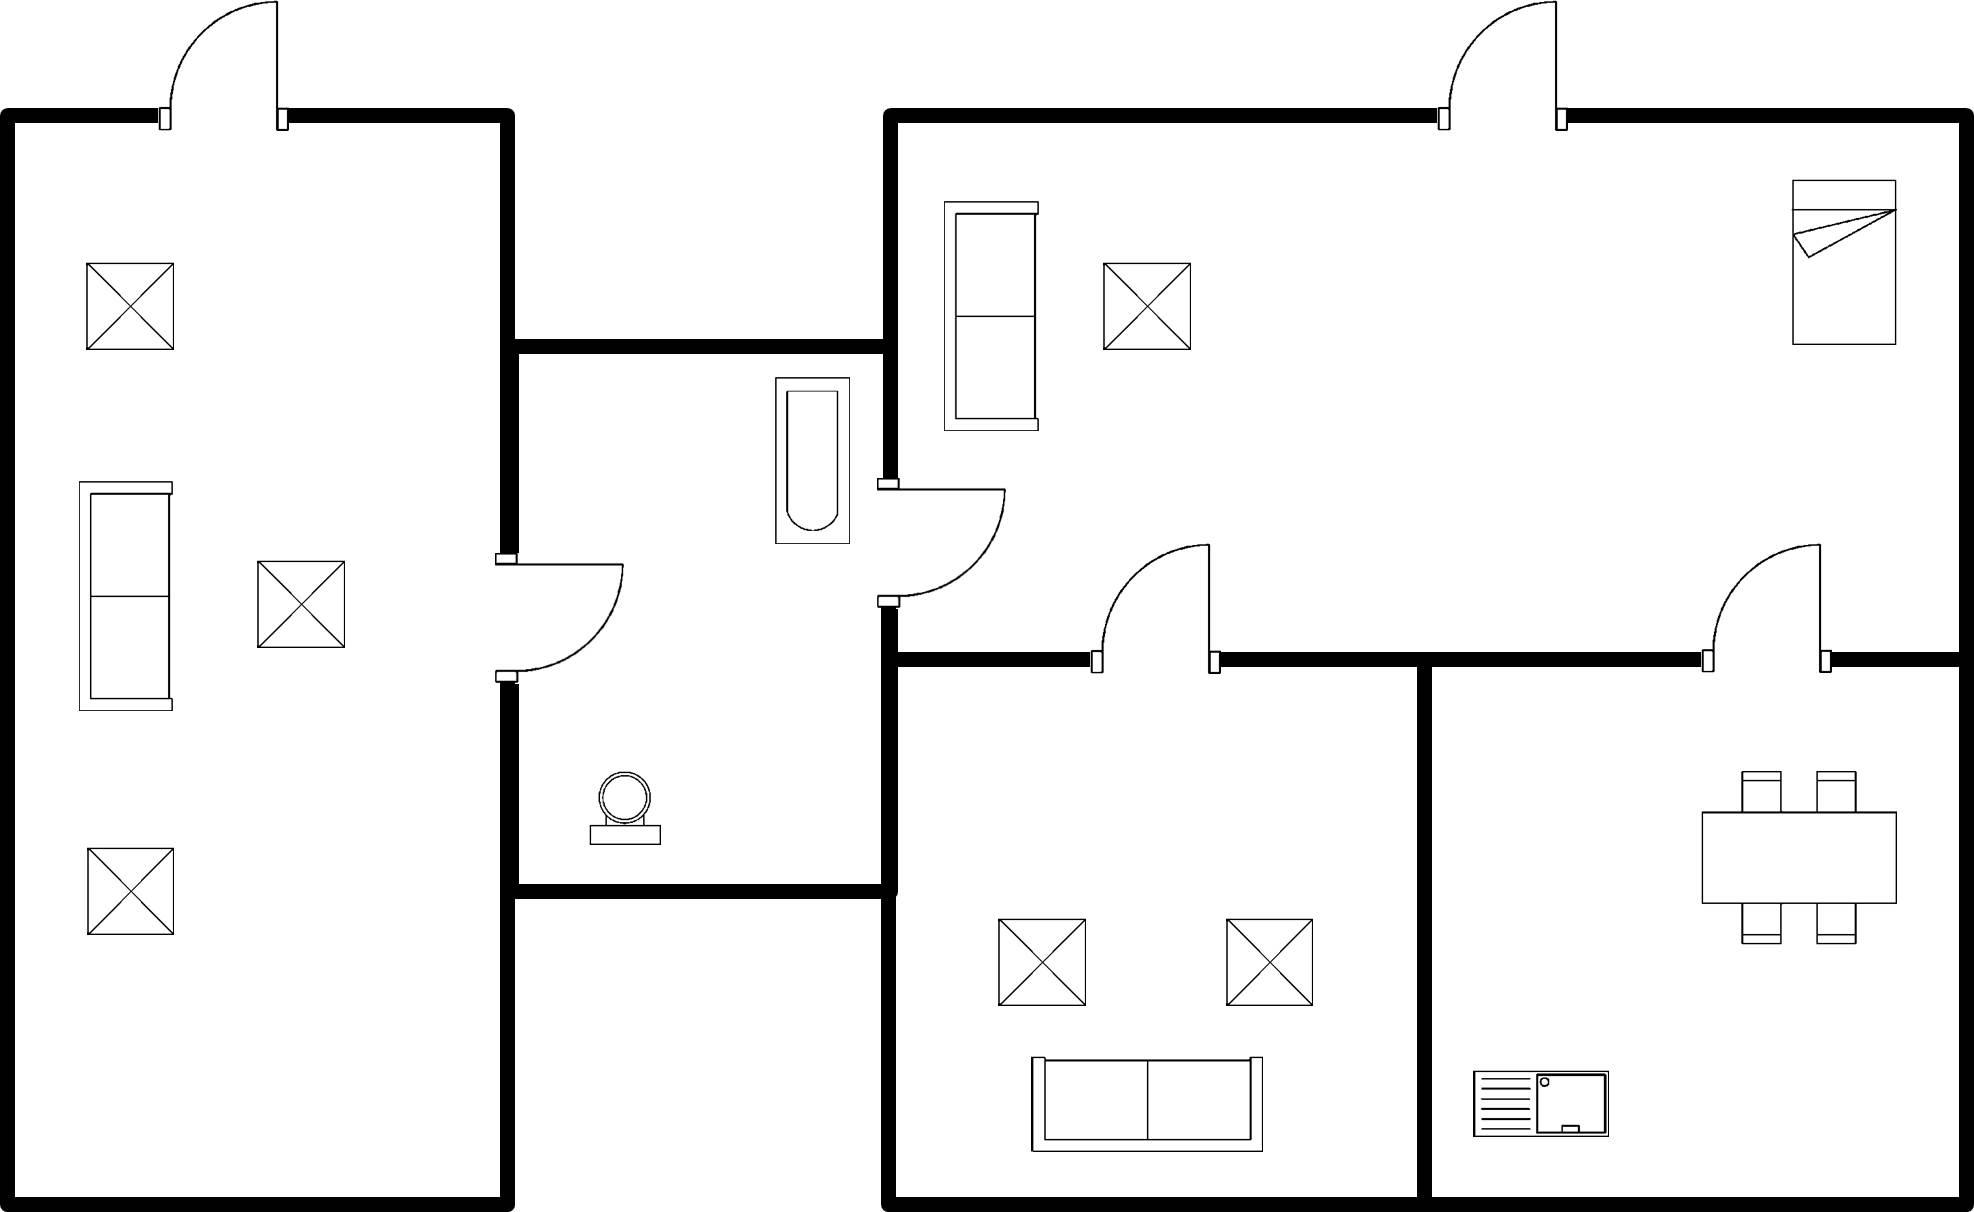bed: (1777, 171, 1908, 358)
dining_table: (1676, 757, 1908, 963)
sink: (1465, 1057, 1619, 1146)
sofa: (63, 459, 183, 730), (1017, 1047, 1280, 1161), (933, 187, 1050, 443)
toilet: (572, 758, 673, 860)
tub: (761, 364, 863, 558)
